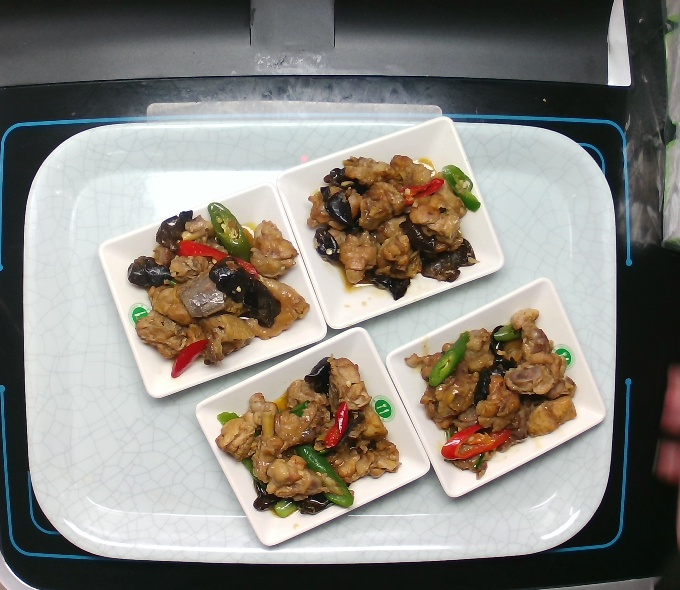wcq-LaZiJi: (116, 199, 312, 380), (212, 350, 404, 527), (400, 305, 586, 484), (301, 145, 489, 306)
